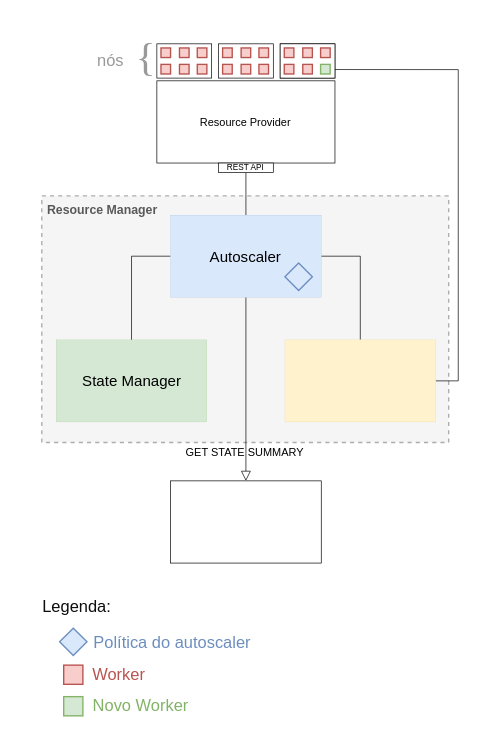
Image size: 484x749. Some labels were removed from this diagram. Each missing label, with the box of its shape:
SERVER: (170, 480, 321, 563)
Worker Launcher: (284, 339, 435, 421)
